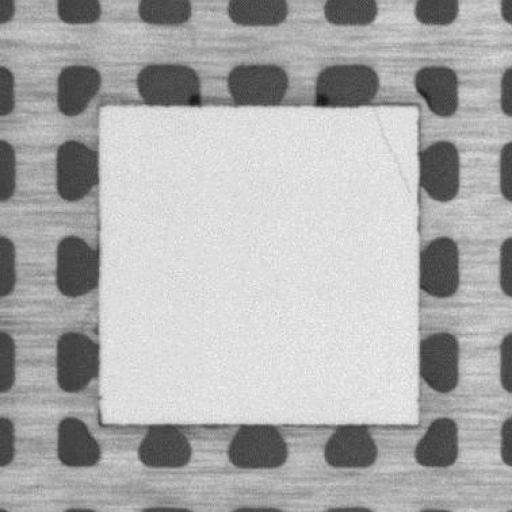DIE_CRACK: (372, 104, 412, 195)
